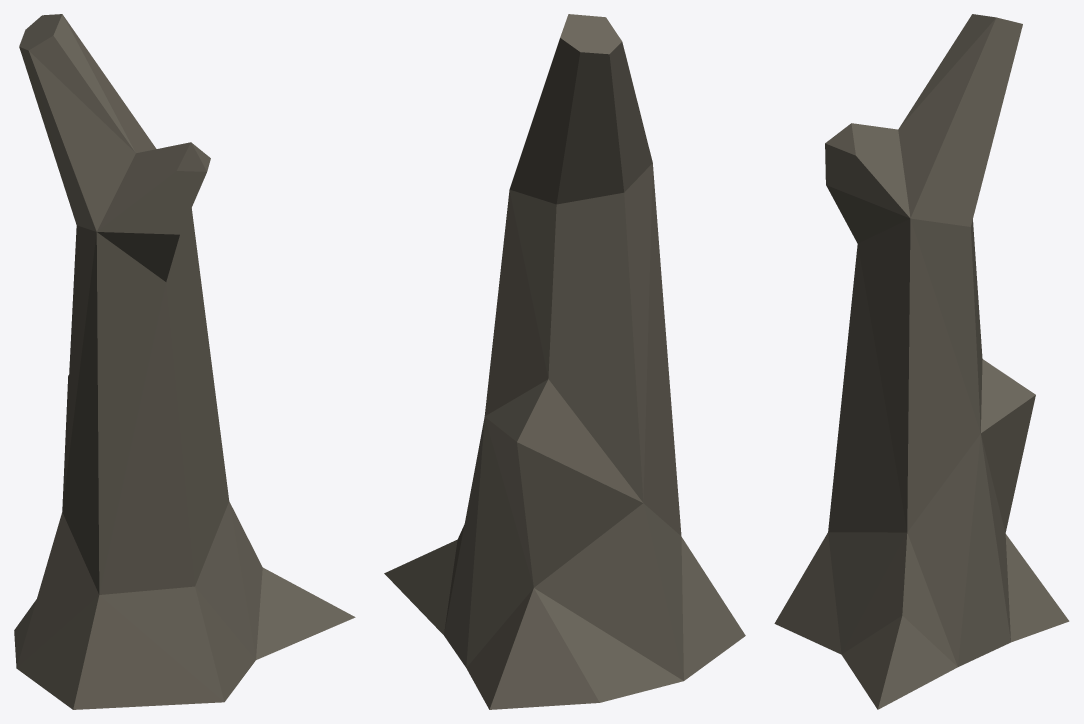
File: Tree_01.fbx
3 renders of one model, left to right at view 1: azimuth 30°, elevation 25°; view 2: azimuth 150°, elevation 25°; view 3: azimuth 270°, elevation 25°, orthographic. The views are drawn at different scales.
Visible parts, largest first — view 1: Cube.004; view 2: Cube.004; view 3: Cube.004.
Part boxes in pixels (left/top/right/bottom): Cube.004: left=14, top=14, right=355, bottom=709; Cube.004: left=384, top=14, right=745, bottom=709; Cube.004: left=774, top=14, right=1069, bottom=709.
Bounding box in the file's own units: 398 × 766 × 348.
1 material, 1 textured.
